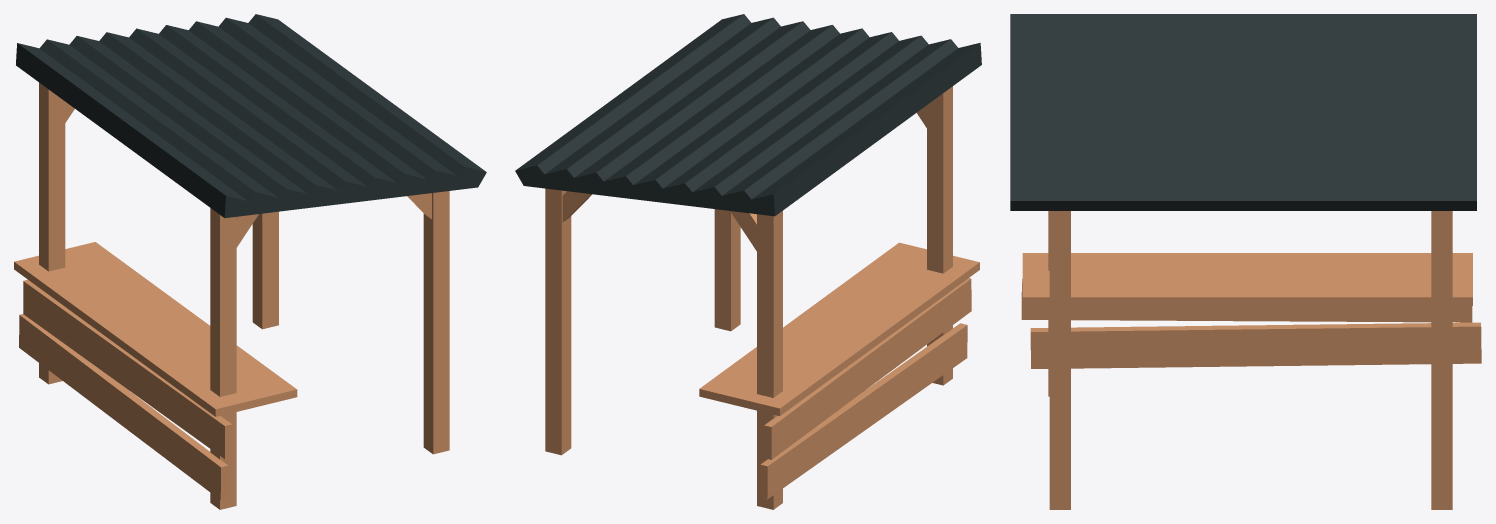
Rendered from hideout.fbx.
3 views of the same model, side by side, from view 1: azimuth 30°, elevation 25°; view 2: azimuth 150°, elevation 25°; view 3: azimuth 270°, elevation 25° (orthographic). The views are drawn at different scales.
Visible parts, largest first — view 1: Rooftop, Cube.010, Cube.011, Cube.001, Cube.002, Cube.005, Cube.004, Cube.003; view 2: Rooftop, Cube.010, Cube.011, Cube.001, Cube.003, Cube.004, Cube.005, Cube.002, Cube.007, Cube.008; view 3: Rooftop, Cube.010, Cube.011, Cube.002, Cube.003, Cube.001.
Part boxes in pixels (bbox=[...]): Rooftop: bbox=[16, 14, 486, 217]; Cube.010: bbox=[14, 242, 297, 416]; Cube.011: bbox=[19, 314, 228, 500]; Cube.001: bbox=[23, 279, 232, 459]; Cube.002: bbox=[423, 191, 449, 454]; Cube.005: bbox=[210, 208, 236, 509]; Cube.004: bbox=[39, 82, 65, 384]; Cube.003: bbox=[252, 211, 278, 329]; Rooftop: bbox=[515, 14, 981, 216]; Cube.010: bbox=[699, 242, 979, 415]; Cube.011: bbox=[760, 323, 967, 499]; Cube.001: bbox=[764, 278, 971, 459]; Cube.003: bbox=[545, 188, 571, 455]; Cube.004: bbox=[757, 211, 782, 509]; Cube.005: bbox=[927, 86, 952, 385]; Cube.002: bbox=[714, 209, 740, 331]; Cube.007: bbox=[562, 191, 591, 222]; Cube.008: bbox=[730, 211, 756, 251]; Rooftop: bbox=[1010, 14, 1476, 210]; Cube.010: bbox=[1022, 253, 1472, 305]; Cube.011: bbox=[1030, 322, 1481, 368]; Cube.002: bbox=[1049, 211, 1070, 509]; Cube.003: bbox=[1431, 211, 1452, 509]; Cube.001: bbox=[1021, 279, 1472, 322].
Size of the model in its own units: 208 by 247 by 286.
